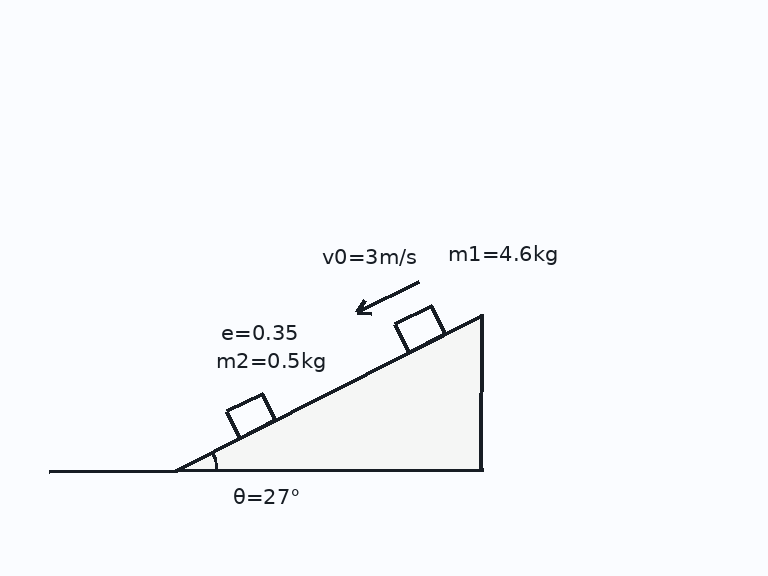block: (392, 304, 447, 354), (224, 392, 277, 440)
ramp: (174, 312, 484, 472)
